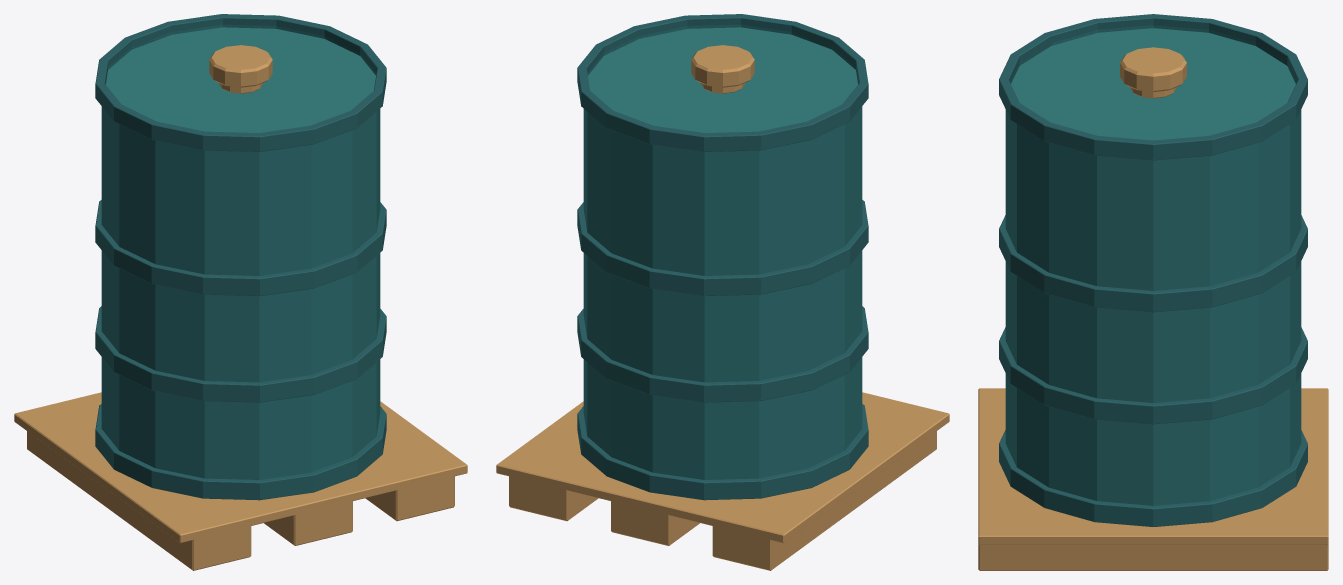
File: drum.glb
3 renders of one model, left to right at view 1: azimuth 30°, elevation 25°; view 2: azimuth 150°, elevation 25°; view 3: azimuth 270°, elevation 25°, orthographic. The views are drawn at different scales.
Visible parts, largest first — view 1: drum__batch_01, drum__batch_03, drum, drum__batch_02; view 2: drum__batch_01, drum__batch_03, drum, drum__batch_02; view 3: drum__batch_01, drum__batch_03, drum, drum__batch_02.
Part boxes in pixels (box(x1,y1,x2,y2)): drum__batch_01: box(101, 24, 380, 479); drum__batch_03: box(95, 14, 386, 500); drum: box(14, 45, 467, 570); drum__batch_02: box(106, 27, 375, 132); drum__batch_01: box(583, 24, 862, 479); drum__batch_03: box(577, 14, 868, 500); drum: box(496, 45, 949, 570); drum__batch_02: box(588, 27, 857, 132); drum__batch_01: box(1005, 25, 1301, 505); drum__batch_03: box(999, 14, 1307, 526); drum: box(978, 47, 1328, 570); drum__batch_02: box(1011, 28, 1295, 140).
Size of the model in its own units: 0.68 by 0.95 by 0.68.
